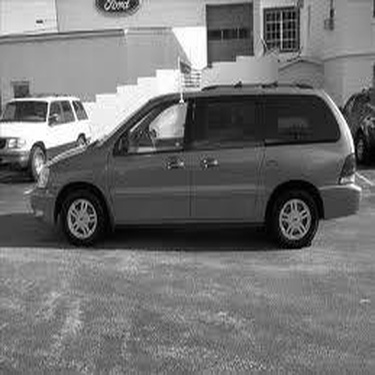car: (28, 79, 365, 254), (7, 86, 102, 188), (331, 73, 371, 174)
